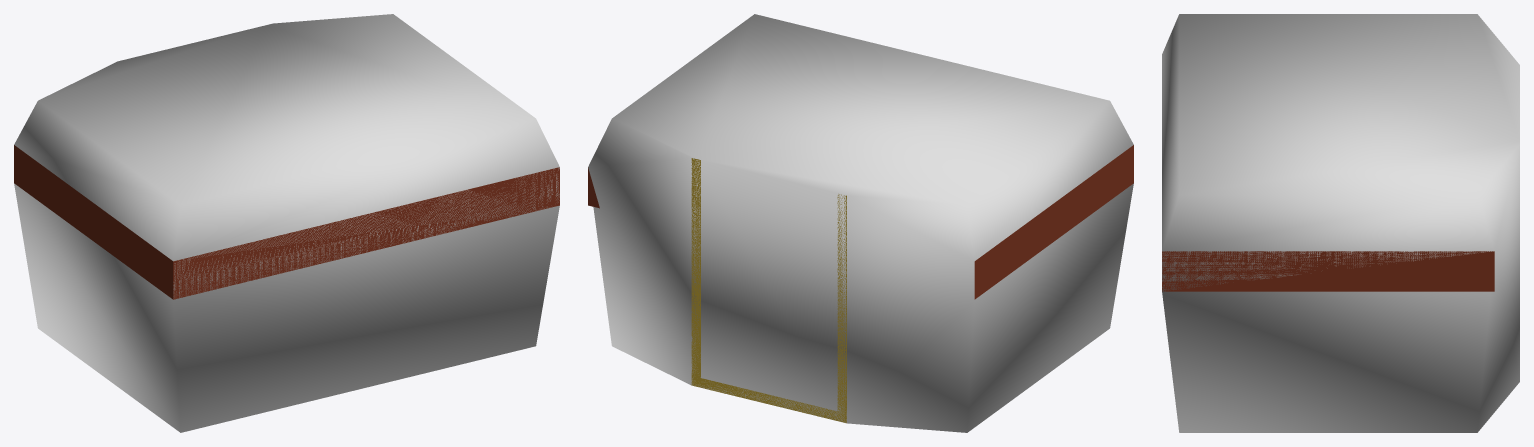
3 renders of one model, left to right at view 1: azimuth 30°, elevation 25°; view 2: azimuth 150°, elevation 25°; view 3: azimuth 270°, elevation 25°, orthographic. The views are drawn at different scales.
Visible parts, largest first — view 1: struct_city_block_low_base_a_01_col, struct_city_block_low_base_a_01; view 2: struct_city_block_low_base_a_01_col, struct_city_block_low_base_a_01; view 3: struct_city_block_low_base_a_01_col, struct_city_block_low_base_a_01.
Part boxes in pixels (box(x1,y1,x2,y2)): struct_city_block_low_base_a_01_col: box(14, 14, 559, 432); struct_city_block_low_base_a_01: box(14, 145, 559, 299); struct_city_block_low_base_a_01_col: box(588, 14, 1133, 432); struct_city_block_low_base_a_01: box(588, 145, 1133, 423); struct_city_block_low_base_a_01_col: box(1162, 14, 1519, 432); struct_city_block_low_base_a_01: box(1162, 251, 1494, 291).
Bounding box in the file's own units: 10.14 × 5.71 × 7.78.
Materials: 1 (1 with a texture image).
